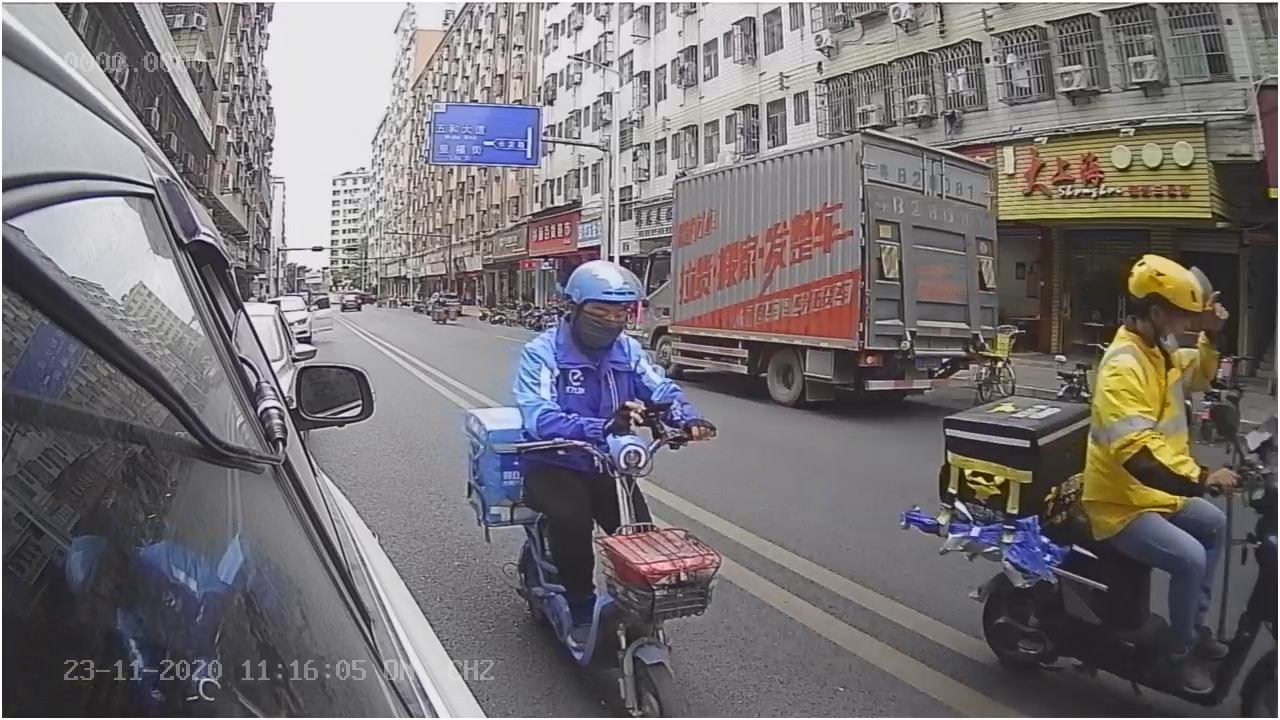person: (509, 255, 707, 415), (1084, 247, 1242, 425)
